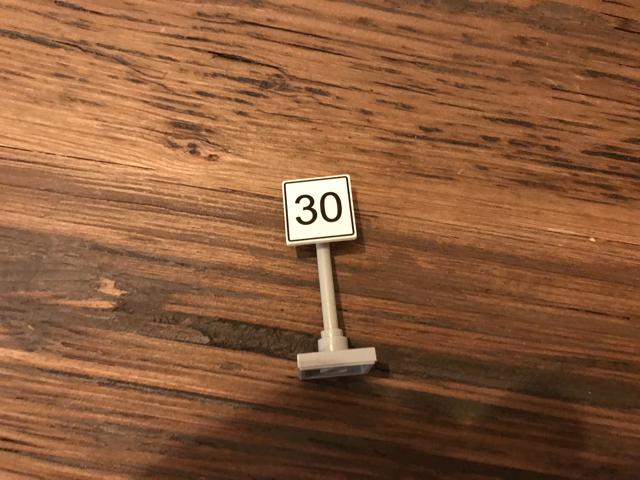tempolimit 30: (278, 173, 358, 249)
